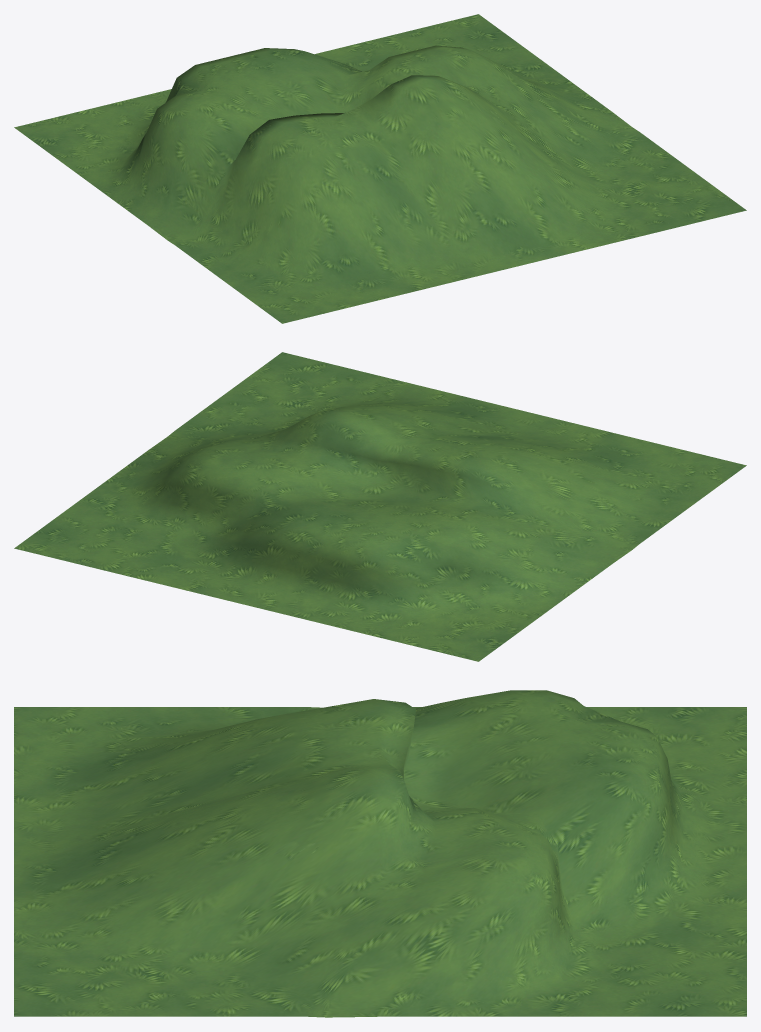
The model's file is hills2.fbx.
The picture shows the model from 3 angles, top to bottom: view 1: azimuth 30°, elevation 25°; view 2: azimuth 150°, elevation 25°; view 3: azimuth 270°, elevation 25°; orthographic projection. The views are drawn at different scales.
Visible parts, largest first — view 1: pPlane2; view 2: pPlane2; view 3: pPlane2.
Part boxes in pixels (x1,y1,x2,y2): pPlane2: (14, 14, 746, 323); pPlane2: (14, 352, 746, 661); pPlane2: (14, 690, 746, 1017).
Size of the model in its own units: 24.11 by 4.09 by 24.11.
Materials: 1 (1 with a texture image).
